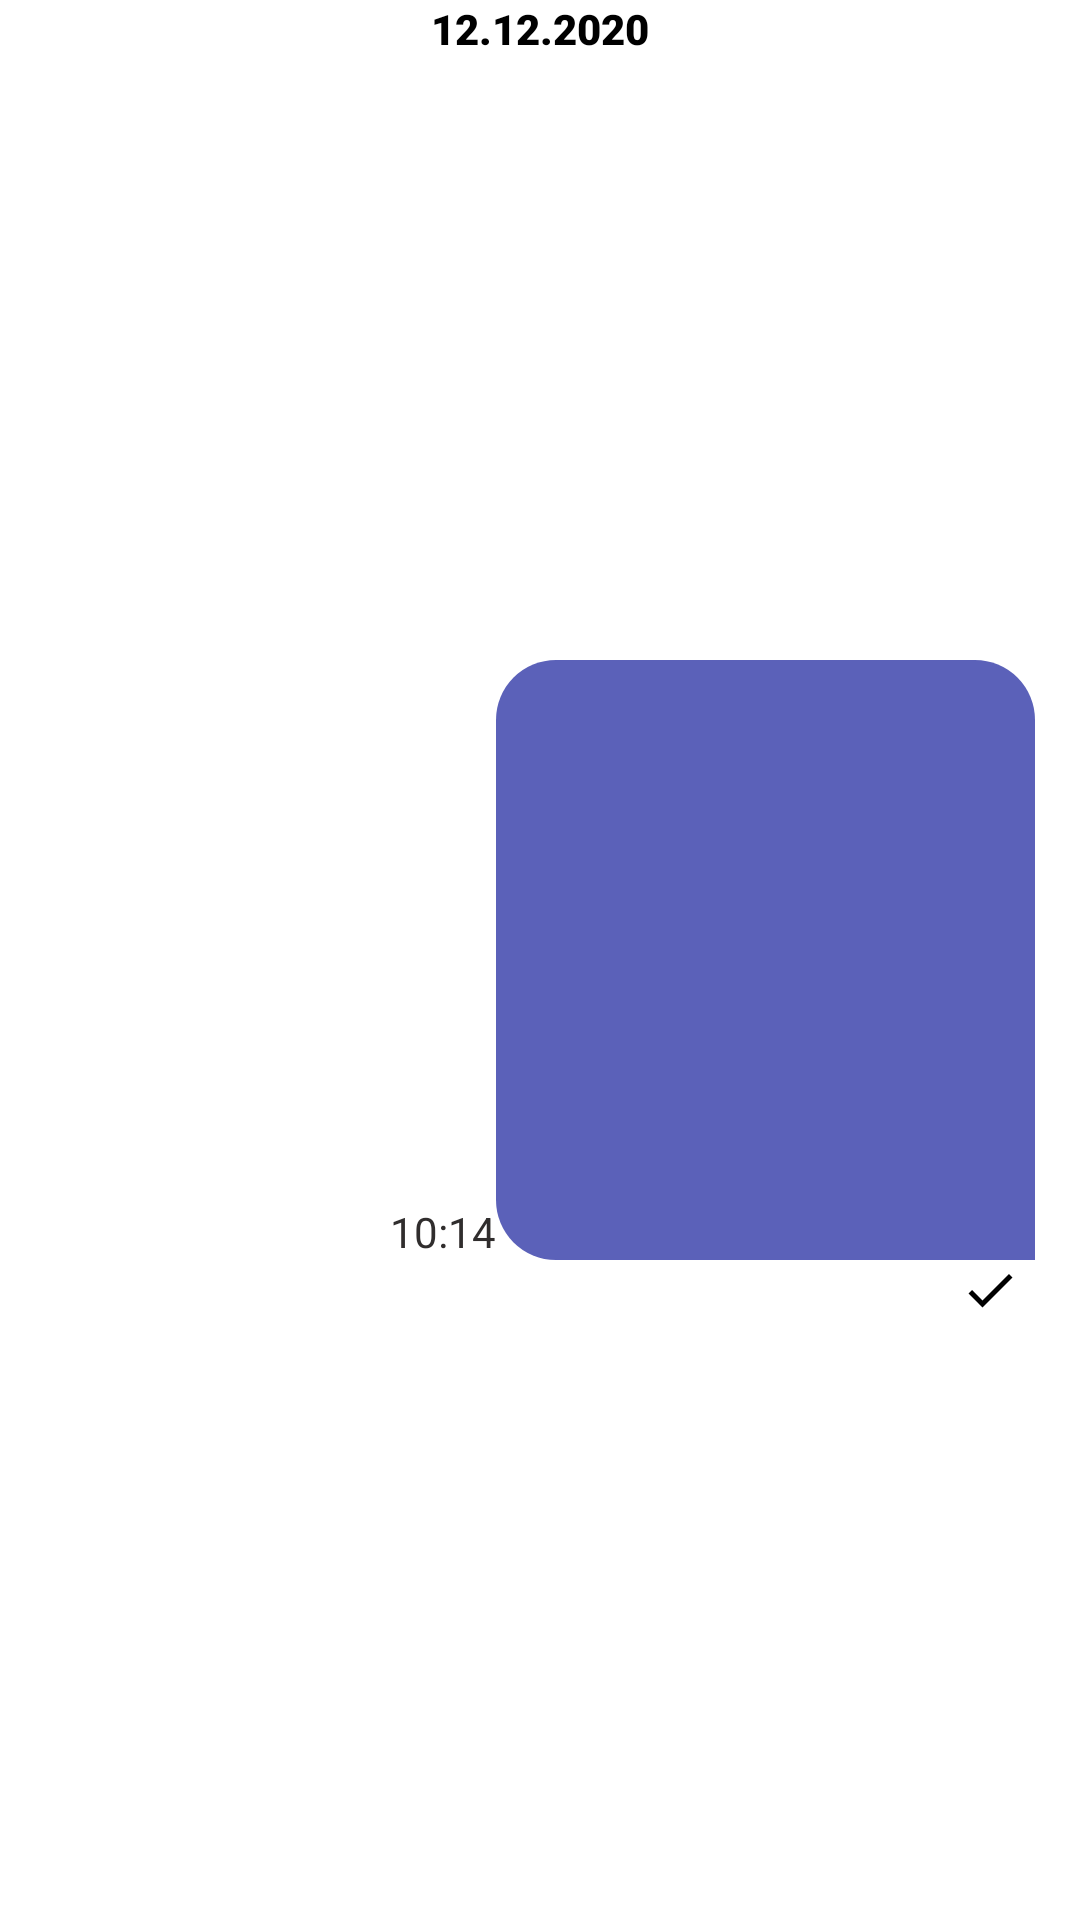

Screen size 1080x1920. Icon name, then its box in pixels as (x1, y1, x2, y2):
check: (968, 1274, 1013, 1308)
